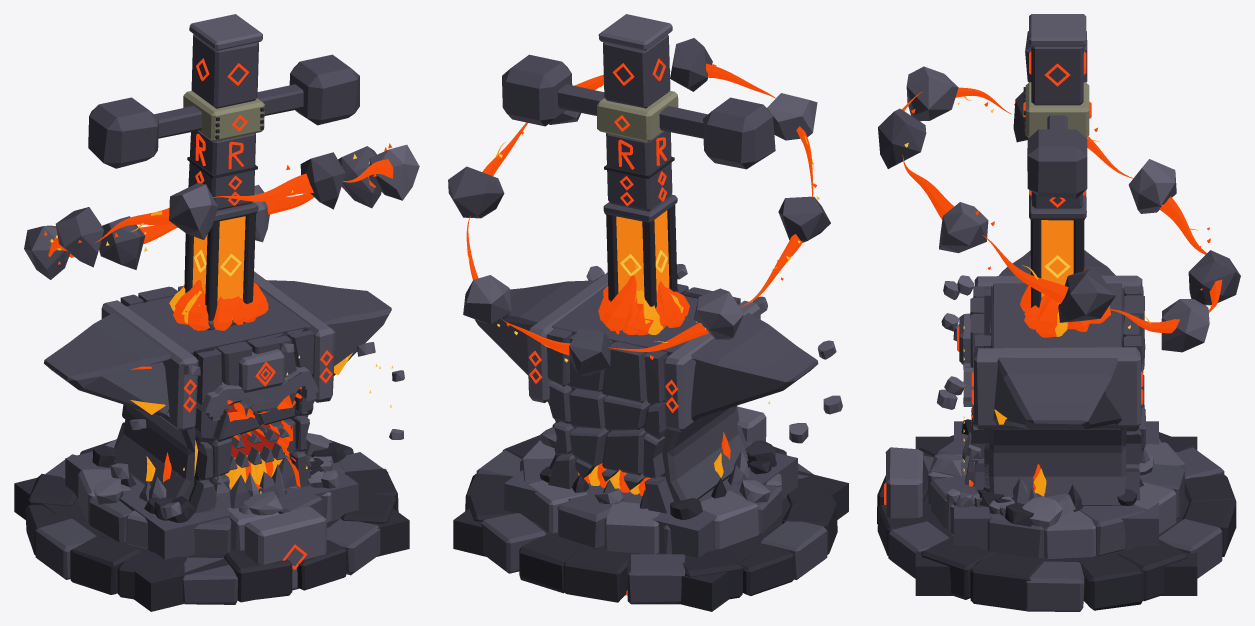
The model's file is bigorna_viva_v8.glb.
3 views of the same model, side by side, from view 1: azimuth 30°, elevation 25°; view 2: azimuth 150°, elevation 25°; view 3: azimuth 270°, elevation 25° (orthographic). The views are drawn at different scales.
Parts seen in each view (by area): view 1: Corpo_Pedra, Base_PedraEscura, Base_Pedra, Base_PedraClara, Corpo_PedraClara, Rosto_neutro_Pedra, Anel_Pedra, Anel_PedraClara, Anel_Lava, Corpo_PedraEscura, Corpo_Lava, Rosto_rindo_Pedra (+8 smaller); view 2: Corpo_Pedra, Base_PedraEscura, Base_Pedra, Base_PedraClara, Anel_Pedra, Corpo_PedraClara, Anel_PedraClara, Anel_Lava, Corpo_Lava, Corpo_PedraEscura, Corpo_NucleoLava, Corpo_MetalTravessa (+2 smaller); view 3: Corpo_Pedra, Base_PedraEscura, Base_Pedra, Base_PedraClara, Corpo_PedraClara, Anel_PedraClara, Anel_Pedra, Anel_Lava, Corpo_NucleoLava, Corpo_MetalTravessa, Corpo_Lava, Corpo_PedraEscura (+5 smaller).
Part boxes in pixels (box(x1,y1,x2,y2)): Corpo_Pedra: box(44, 34, 391, 499); Base_PedraEscura: box(14, 432, 409, 611); Base_Pedra: box(35, 447, 388, 604); Base_PedraClara: box(78, 433, 333, 590); Corpo_PedraClara: box(101, 14, 335, 431); Rosto_neutro_Pedra: box(190, 328, 313, 513); Anel_Pedra: box(55, 146, 381, 269); Anel_PedraClara: box(24, 144, 419, 279); Anel_Lava: box(44, 143, 393, 264); Corpo_PedraEscura: box(184, 107, 264, 320); Corpo_Lava: box(131, 280, 272, 482); Rosto_rindo_Pedra: box(203, 333, 314, 508); Corpo_Pedra: box(474, 34, 818, 513); Base_PedraEscura: box(453, 422, 848, 611); Base_Pedra: box(476, 439, 827, 604); Base_PedraClara: box(521, 406, 781, 554); Anel_Pedra: box(448, 38, 830, 376); Corpo_PedraClara: box(527, 14, 760, 432); Anel_PedraClara: box(463, 93, 817, 339); Anel_Lava: box(466, 63, 816, 359); Corpo_Lava: box(578, 275, 730, 496); Corpo_PedraEscura: box(604, 157, 677, 308); Corpo_NucleoLava: box(616, 210, 669, 301); Corpo_MetalTravessa: box(597, 91, 678, 142); Corpo_Pedra: box(987, 31, 1145, 506); Base_PedraEscura: box(877, 419, 1236, 611); Base_Pedra: box(888, 421, 1224, 611); Base_PedraClara: box(885, 442, 1185, 559); Corpo_PedraClara: box(959, 14, 1142, 429); Anel_PedraClara: box(906, 66, 1209, 352); Anel_Pedra: box(878, 91, 1240, 322); Anel_Lava: box(902, 87, 1222, 333); Corpo_NucleoLava: box(1041, 220, 1073, 297); Corpo_MetalTravessa: box(1025, 82, 1089, 137); Corpo_Lava: box(1020, 269, 1110, 492); Corpo_PedraEscura: box(1023, 87, 1084, 307).
Bounding box in the file's own units: 4.9 × 6.67 × 4.27.
